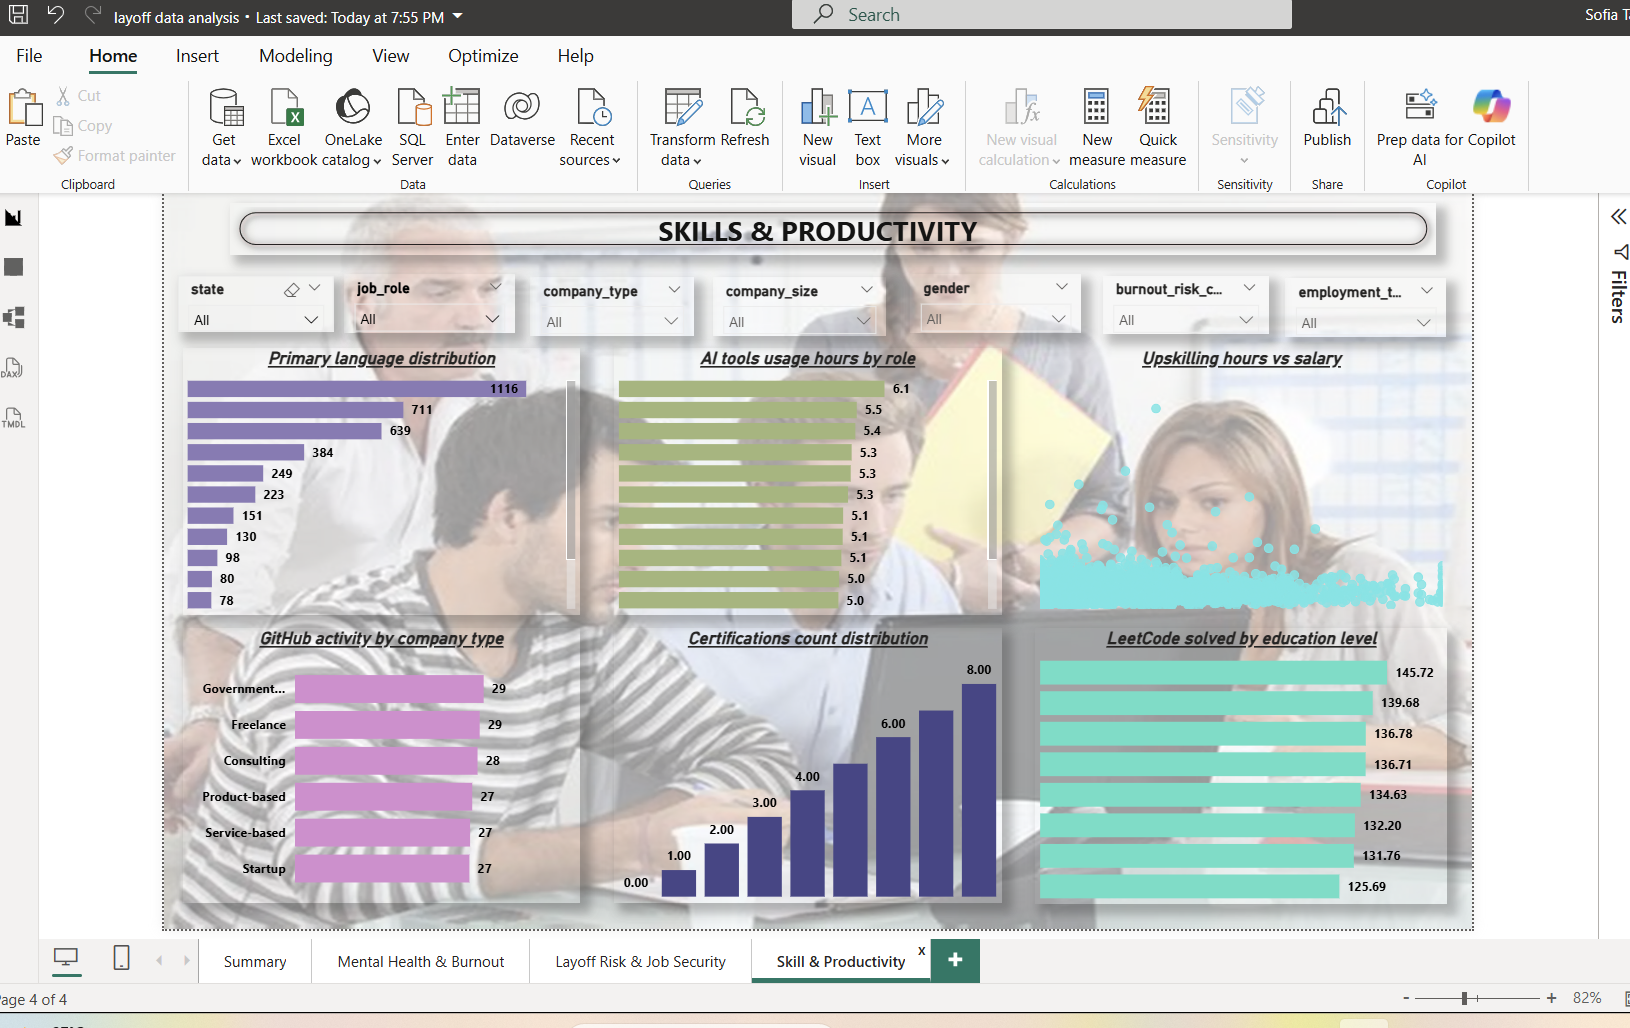

This screenshot's page, from the dashboard's own definition file:
{"tool":"powerbi","page":{"name":"Skill & Productivity","canvas":[1280,720],"ordinal":3},"visuals":[{"type":"barChart","title":" Primary language distribution","fields":{"Category":["layoff data.primary_language"],"Y":["CountNonNull(layoff data.developer_id)"]},"box":[18.3,151.6,388.9,260.5],"z":0},{"type":"shape","box":[64.8,9.8,1180,50.1],"z":1000},{"type":"textbox","box":[476.9,13.5,325.3,46.5],"z":2000},{"type":"barChart","title":" AI tools usage hours by role","fields":{"Y":["Avg(layoff data.ai_tools_usage_hours_per_week)"],"Category":["layoff data.job_role"]},"box":[440.2,151.6,379.1,260.5],"z":3000},{"type":"scatterChart","title":"Upskilling hours vs salary","fields":{"X":["Avg(layoff data.upskilling_hours_per_week)"],"Y":["Avg(layoff data.salary_lpa)"],"Category":["layoff data.developer_id"]},"box":[852.3,151.6,403.5,260.5],"z":4000},{"type":"barChart","title":"GitHub activity by company type","fields":{"Category":["layoff data.company_type"],"Y":["Avg(layoff data.github_activity_score)"]},"box":[18.3,425.5,388.9,269],"z":5000},{"type":"clusteredColumnChart","title":" Certifications count distribution","fields":{"Category":["layoff data.certifications_count"],"Y":["Avg(layoff data.certifications_count)"]},"box":[440.2,425.5,379.1,269],"z":6000},{"type":"clusteredBarChart","title":" LeetCode solved by education level","fields":{"Y":["Avg(layoff data.leetcode_problems_solved)"],"Category":["layoff data.education_level"]},"box":[852.3,425.5,403.5,270.2],"z":7000},{"type":"slicer","fields":{"Values":["layoff data.state"]},"box":[13.5,80.9,152.9,55],"z":7001},{"type":"slicer","fields":{"Values":["layoff data.job_role"]},"box":[176.1,79.7,167.5,57.5],"z":7002},{"type":"slicer","fields":{"Values":["layoff data.company_type"]},"box":[358.3,82.2,160.2,57.5],"z":7003},{"type":"slicer","fields":{"Values":["layoff data.company_size"]},"box":[536.8,82.2,170,57.5],"z":7004},{"type":"slicer","fields":{"Values":["layoff data.gender"]},"box":[730,79.7,167.5,57.5],"z":7005},{"type":"slicer","fields":{"Values":["layoff data.burnout_risk_category"]},"box":[918.3,80.9,162.6,57.5],"z":7006},{"type":"slicer","fields":{"Values":["layoff data.employment_type"]},"box":[1096.9,83.4,157.7,57.5],"z":7007}]}

Visuals, with their boxes on the page's 1280x720 design canvas (x1, y1, x2, y2). These are canvas units, not pixel positions in the 1630x1028 screenshot, which may show the page scaled, cropped or inside an application window:
" Primary language distribution" barChart: (x1=18, y1=152, x2=407, y2=412)
shape: (x1=65, y1=10, x2=1245, y2=60)
textbox: (x1=477, y1=14, x2=802, y2=60)
" AI tools usage hours by role" barChart: (x1=440, y1=152, x2=819, y2=412)
"Upskilling hours vs salary" scatterChart: (x1=852, y1=152, x2=1256, y2=412)
"GitHub activity by company type" barChart: (x1=18, y1=426, x2=407, y2=694)
" Certifications count distribution" clusteredColumnChart: (x1=440, y1=426, x2=819, y2=694)
" LeetCode solved by education level" clusteredBarChart: (x1=852, y1=426, x2=1256, y2=696)
slicer - layoff data.state: (x1=14, y1=81, x2=166, y2=136)
slicer - layoff data.job_role: (x1=176, y1=80, x2=344, y2=137)
slicer - layoff data.company_type: (x1=358, y1=82, x2=518, y2=140)
slicer - layoff data.company_size: (x1=537, y1=82, x2=707, y2=140)
slicer - layoff data.gender: (x1=730, y1=80, x2=898, y2=137)
slicer - layoff data.burnout_risk_category: (x1=918, y1=81, x2=1081, y2=138)
slicer - layoff data.employment_type: (x1=1097, y1=83, x2=1255, y2=141)
